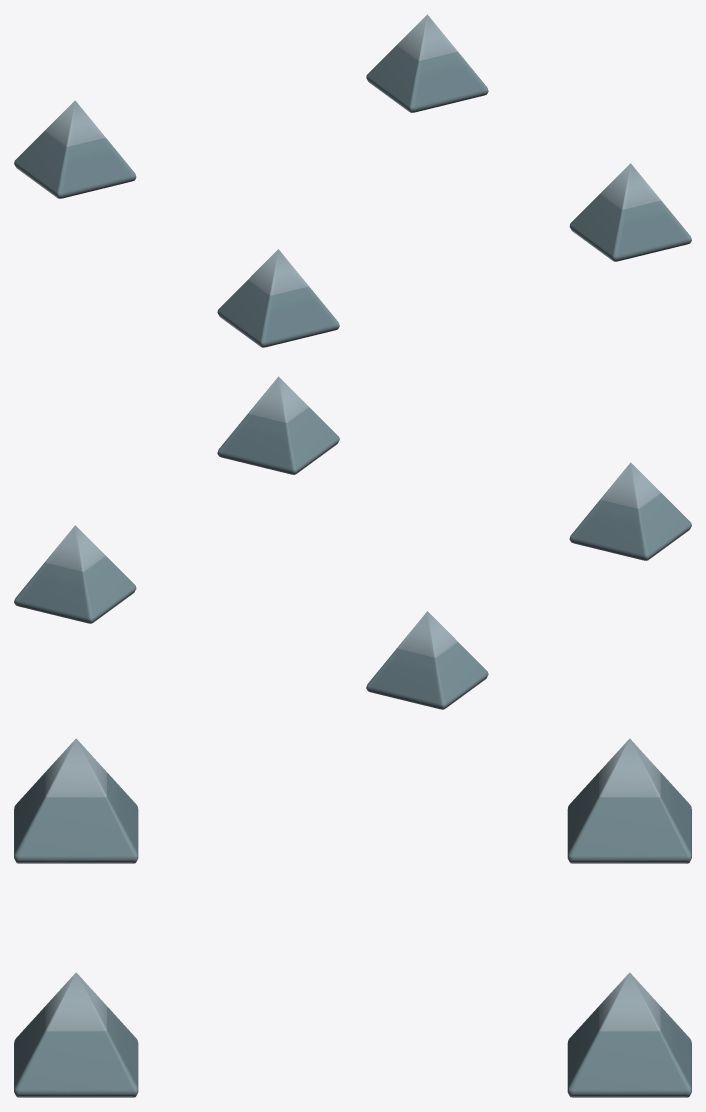
The model's file is Props.fbx.
3 renders of one model, top to bottom at view 1: azimuth 30°, elevation 25°; view 2: azimuth 150°, elevation 25°; view 3: azimuth 270°, elevation 25°, orthographic. The views are drawn at different scales.
Parts seen in each view (by area): view 1: 三角锥 (×4); view 2: 三角锥 (×4); view 3: 三角锥 (×4).
Part boxes in pixels (bbox=[...]): 三角锥 (×4): bbox=[14, 14, 691, 347]; 三角锥 (×4): bbox=[14, 376, 691, 709]; 三角锥 (×4): bbox=[14, 738, 691, 1097].
Bounding box in the file's own units: 19.59 × 3.19 × 19.6.
